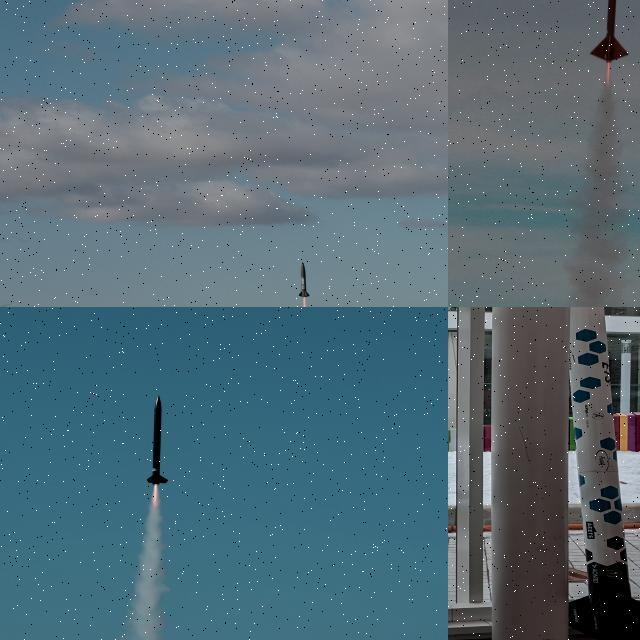Rocket: (569, 307, 640, 640), (590, 0, 630, 62), (146, 395, 169, 485), (298, 262, 310, 298)
